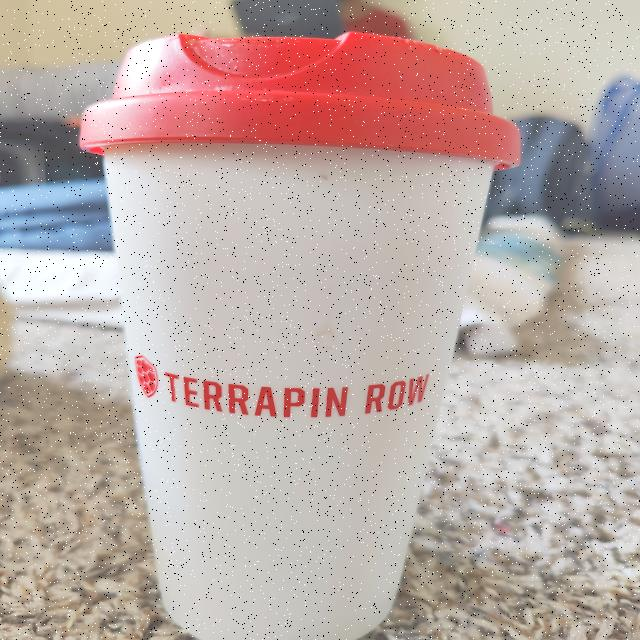mug: (90, 39, 510, 640)
